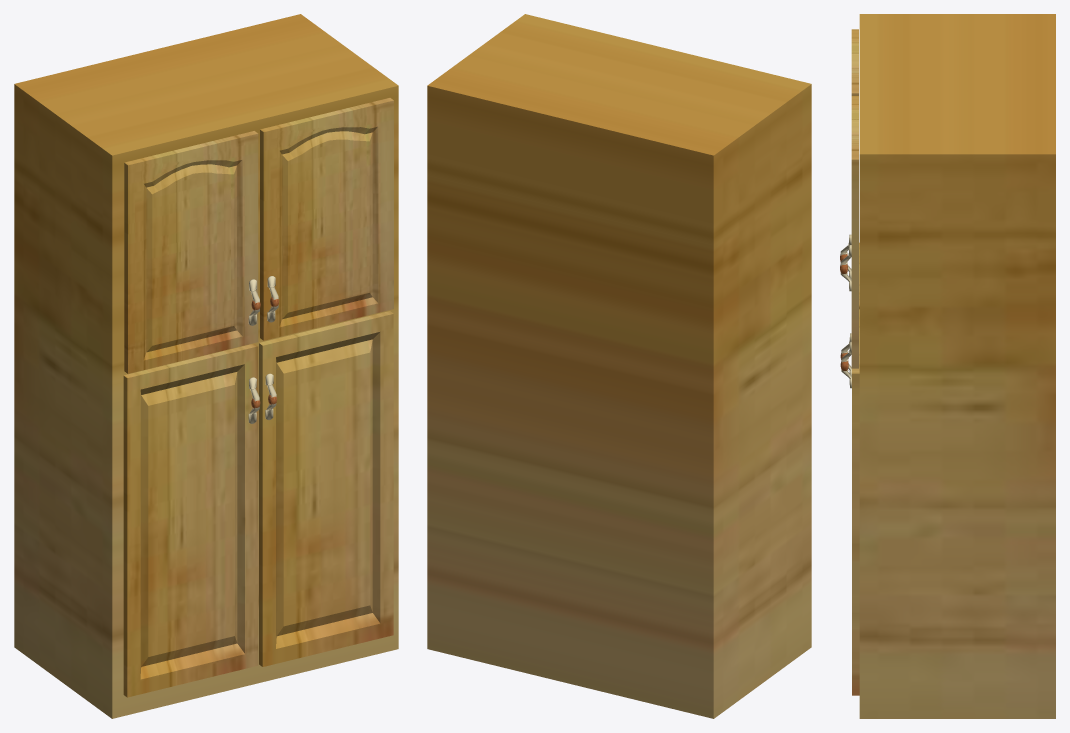
The model's file is pantry.glb.
3 views of the same model, side by side, from view 1: azimuth 30°, elevation 25°; view 2: azimuth 150°, elevation 25°; view 3: azimuth 270°, elevation 25° (orthographic).
Parts seen in each view (by area): view 1: pantry; view 2: pantry; view 3: pantry.
Boxes of the visible parts, left/top/right/bottom form: pantry: left=14, top=14, right=398, bottom=718; pantry: left=427, top=14, right=811, bottom=718; pantry: left=840, top=14, right=1055, bottom=718.
Bounding box in the file's own units: 0.983 × 1.85 × 0.6399.
4 materials, 3 textured.
